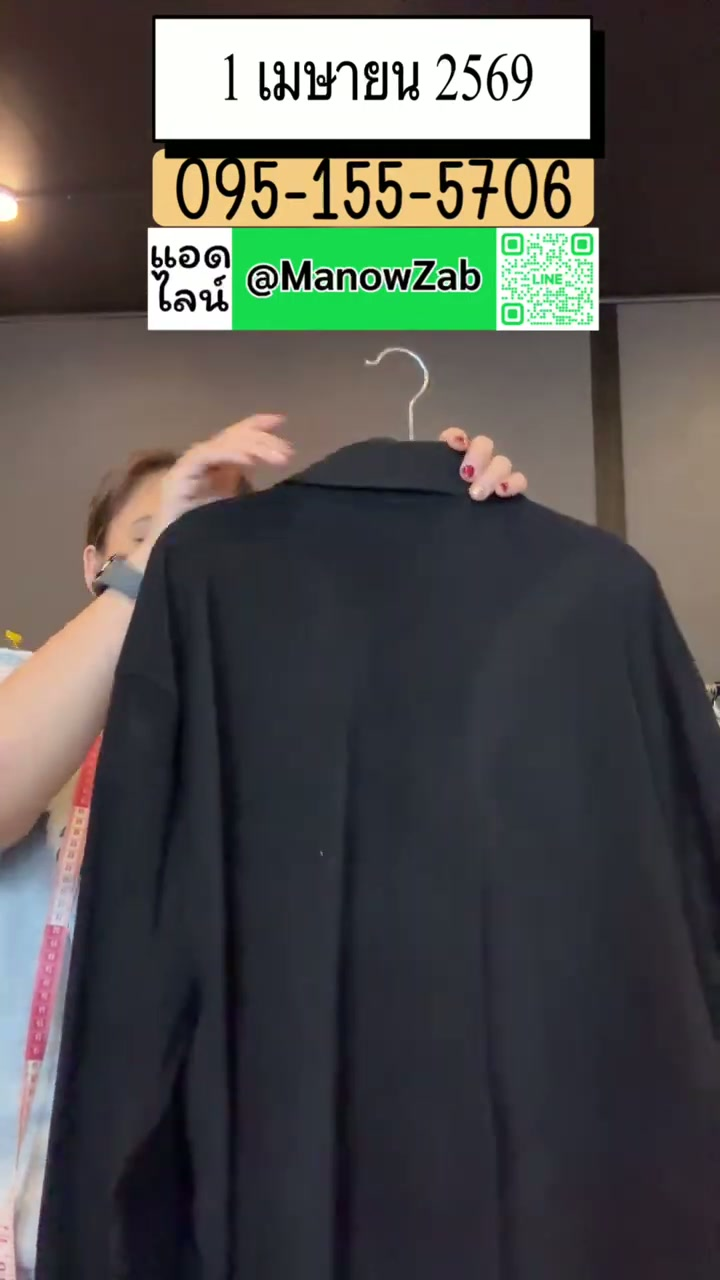display_shirt: (38, 440, 719, 1279)
